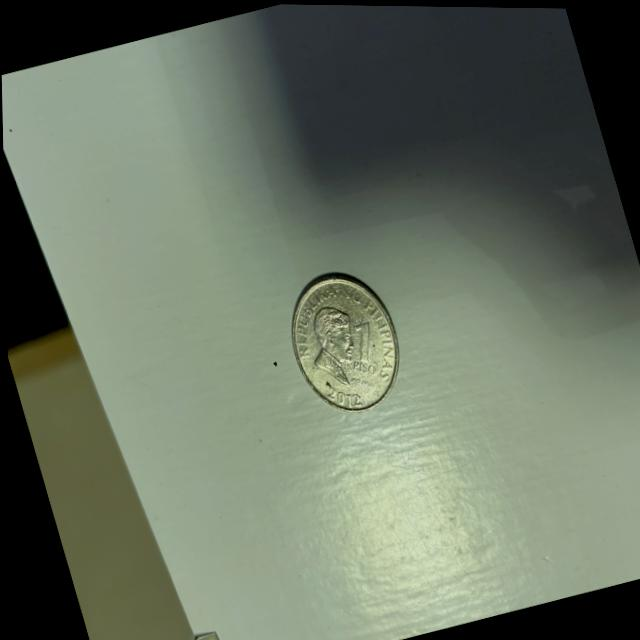1_Old_Front: (334, 313, 392, 383)
